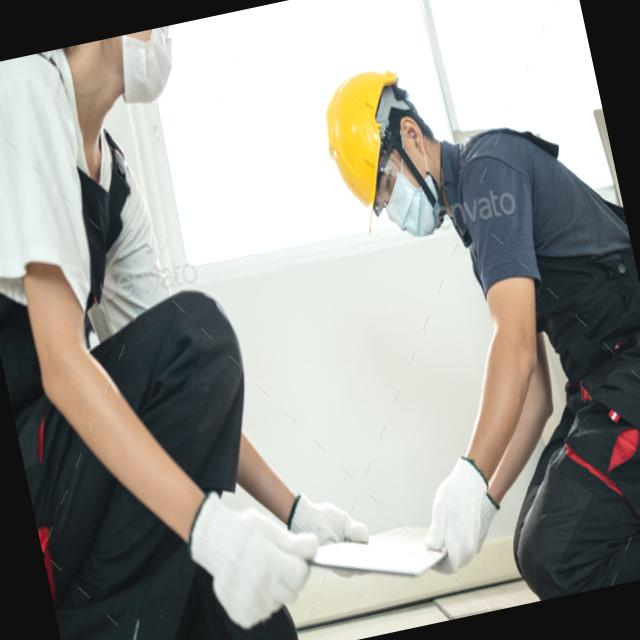helmet: (309, 58, 430, 244)
no-vest: (0, 41, 154, 365), (436, 100, 602, 323)
